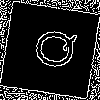Q: (24, 24, 79, 72)
